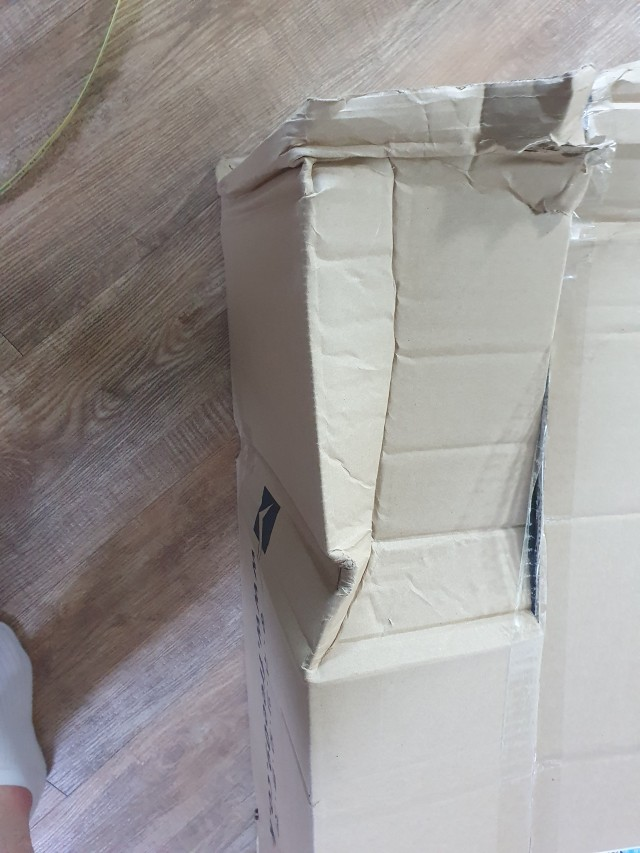damaged package: (424, 75, 612, 268), (490, 372, 563, 678), (277, 500, 381, 681), (223, 89, 337, 213)
